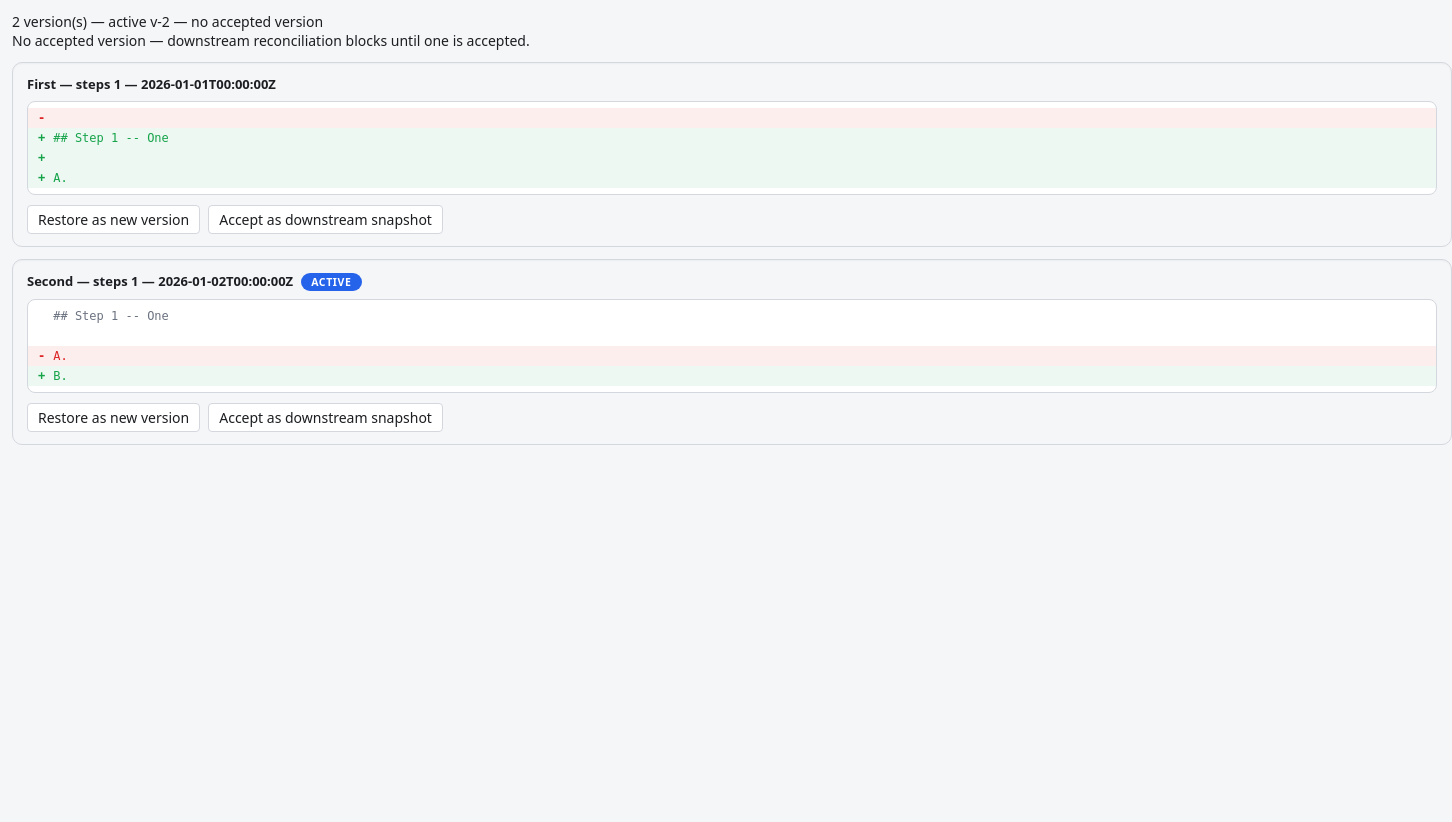
it: AiScenarioHistory › lists versions ordered with summaries, diff, and restore that never rewrites history
Expected: the list item with test id "ai-scenario-version-v-1" is shown, [12, 62, 1451, 247]
Expected: the element with test id "ai-scenario-version-summary-v-1" shows "First", [27, 75, 56, 93]
Click the button with test id "ai-scenario-restore-v-1".
click(114, 220)  # box [27, 205, 200, 234]
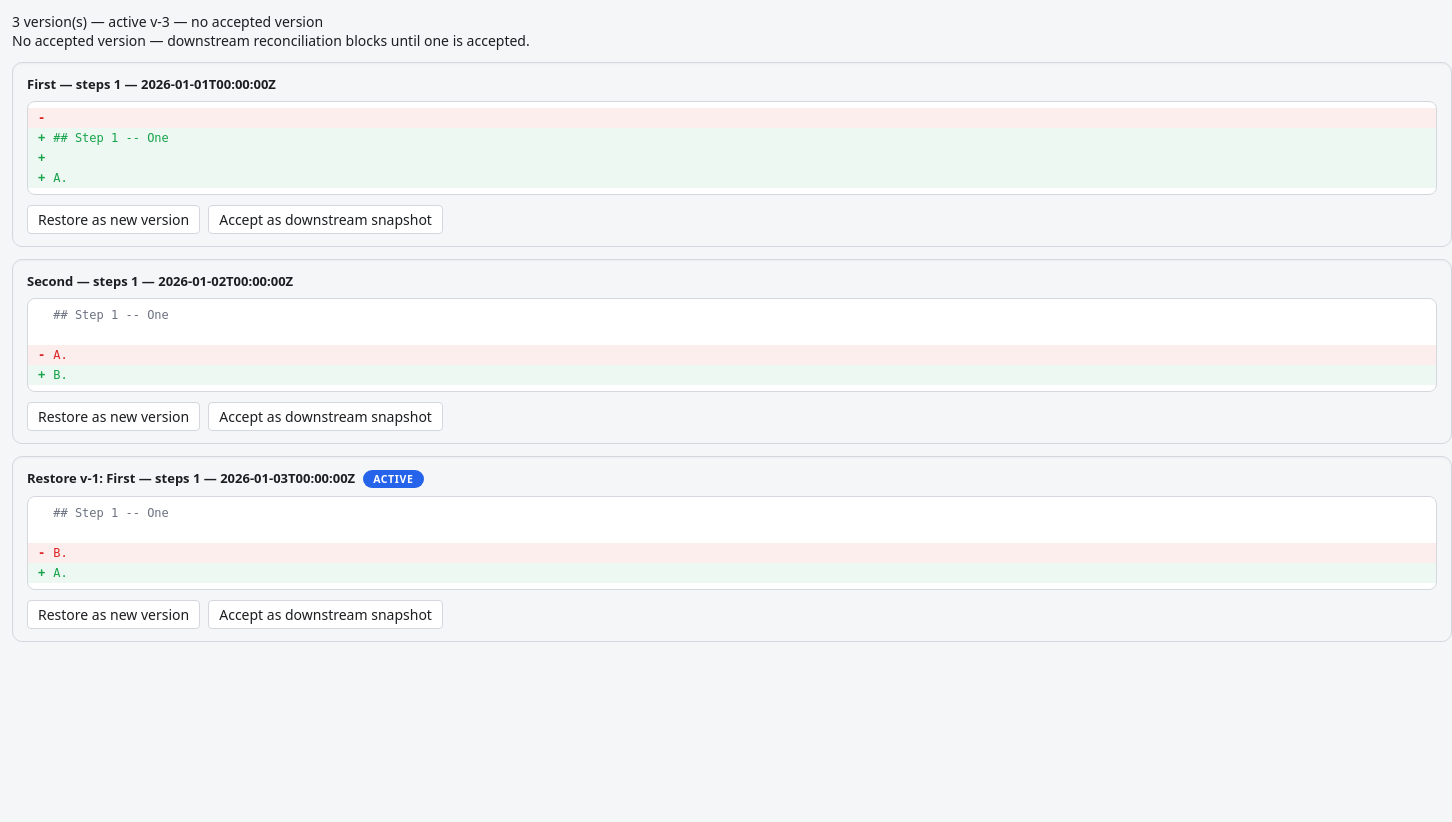
Expected: the list item with test id "ai-scenario-version-v-1" is shown, [12, 62, 1451, 247]
Expected: the list item with test id "ai-scenario-version-v-3" is shown, [12, 456, 1451, 642]
